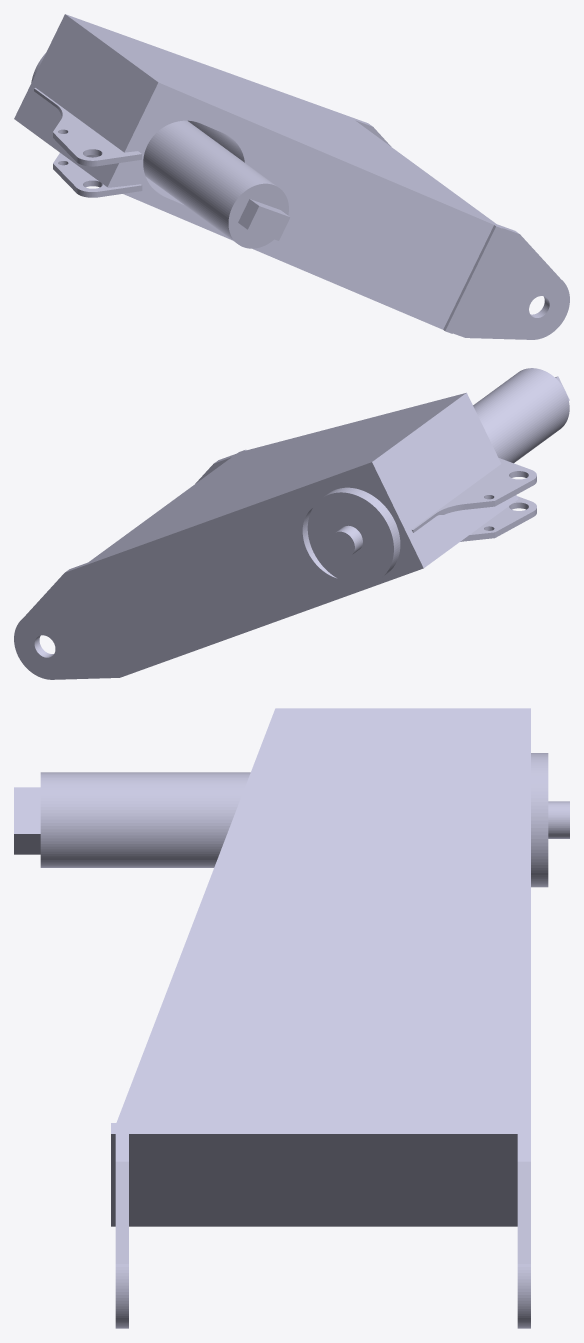
Rendered from BEAM_JACK_LEFT_BACK.obj.
3 views of the same model, one above another, from view 1: azimuth 30°, elevation 25°; view 2: azimuth 150°, elevation 25°; view 3: azimuth 270°, elevation 25° (orthographic). The views are drawn at different scales.
Parts seen in each view (by area): view 1: HSC_1500HLX_BEAM_JACK_000_1-1500HLX_BEAM_JACK019 (Meshed); view 2: HSC_1500HLX_BEAM_JACK_000_1-1500HLX_BEAM_JACK019 (Meshed); view 3: HSC_1500HLX_BEAM_JACK_000_1-1500HLX_BEAM_JACK019 (Meshed).
Boxes of the visible parts, box(x1,y1,x2,y2) form: HSC_1500HLX_BEAM_JACK_000_1-1500HLX_BEAM_JACK019 (Meshed): box(14, 14, 569, 339); HSC_1500HLX_BEAM_JACK_000_1-1500HLX_BEAM_JACK019 (Meshed): box(14, 368, 569, 679); HSC_1500HLX_BEAM_JACK_000_1-1500HLX_BEAM_JACK019 (Meshed): box(14, 708, 569, 1328).
Size of the model in its own units: 1256 by 822 by 1035.
